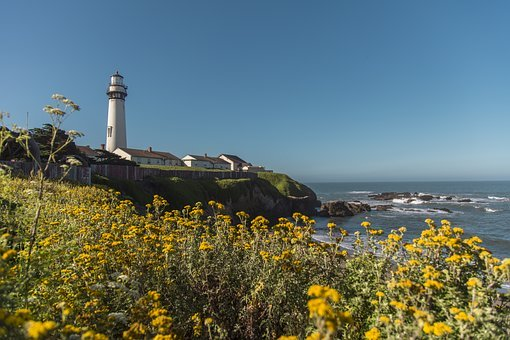flower: (28, 218, 481, 336)
sea: (311, 173, 508, 240)
sky: (19, 16, 507, 186)
